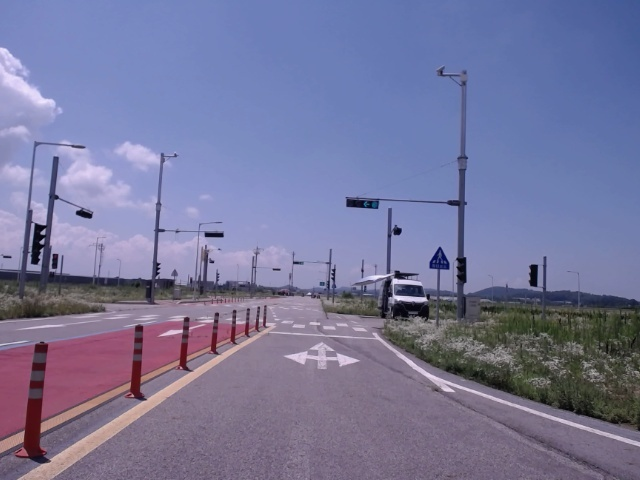all_green_4: (344, 196, 378, 209)
